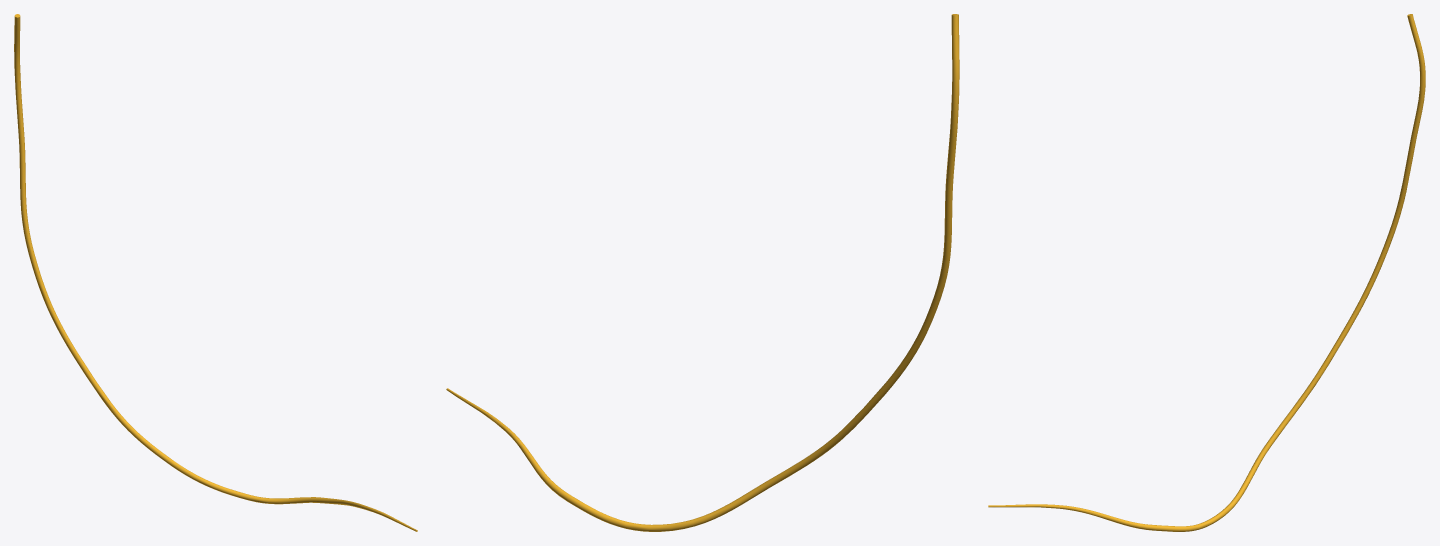
Rendered from nervoso-lingual-nerve-r.glb.
3 views of the same model, side by side, from view 1: azimuth 30°, elevation 25°; view 2: azimuth 210°, elevation 25°; view 3: azimuth 270°, elevation 25° (orthographic). The views are drawn at different scales.
Parts seen in each view (by area): view 1: Lingual nerve.r; view 2: Lingual nerve.r; view 3: Lingual nerve.r.
Boxes of the visible parts, bbox=[...] form: Lingual nerve.r: bbox=[14, 14, 417, 531]; Lingual nerve.r: bbox=[446, 14, 959, 531]; Lingual nerve.r: bbox=[988, 14, 1425, 531].
Size of the model in its own units: 0.0228 by 0.0514 by 0.046.
